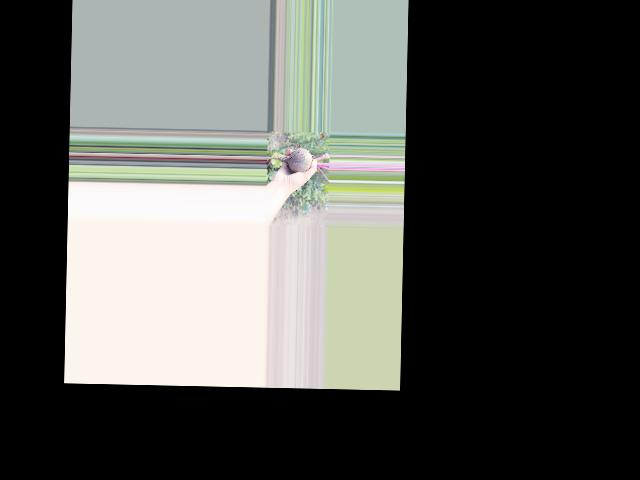beet: (265, 137, 330, 182)
